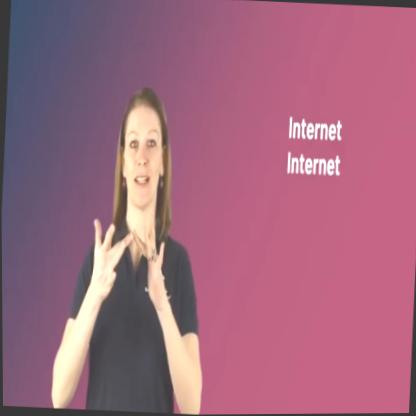Internet: (86, 207, 168, 312)
